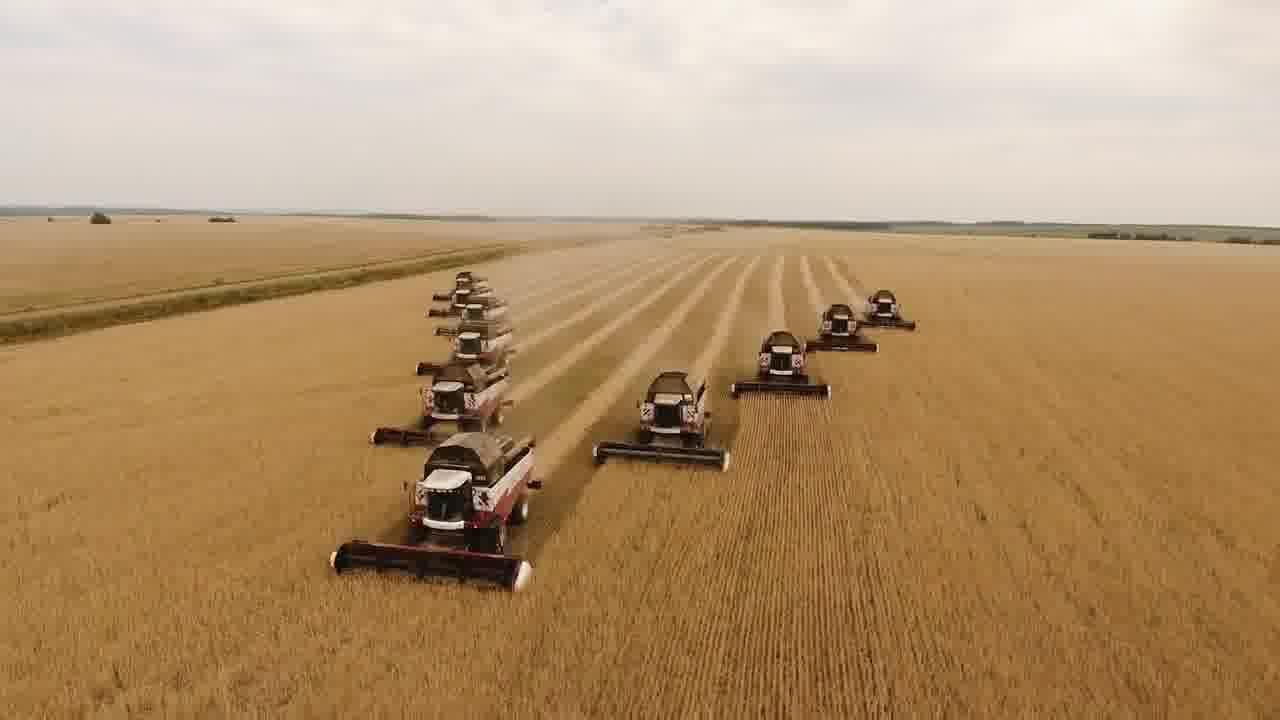combine harvester: (323, 424, 549, 597), (590, 365, 734, 476), (367, 357, 515, 450), (730, 329, 838, 405), (413, 319, 515, 375), (804, 297, 883, 360), (432, 302, 510, 339), (858, 288, 918, 335), (429, 287, 501, 317)
